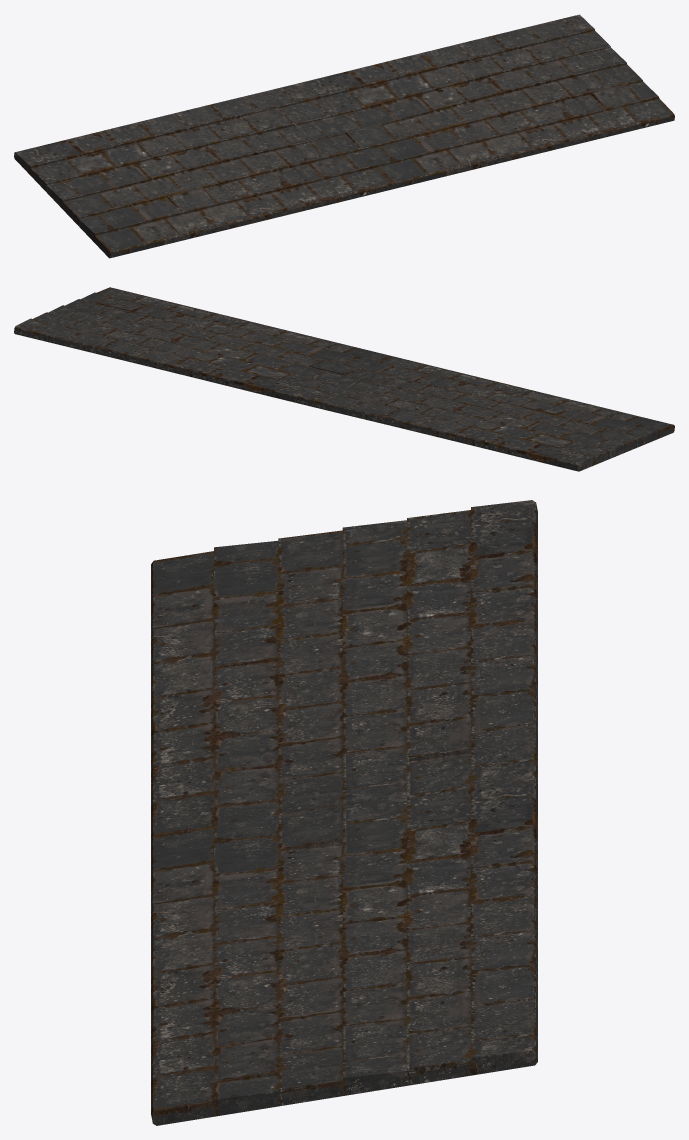
File: WallRoof_Top.fbx
3 views of the same model, one above another, from view 1: azimuth 30°, elevation 25°; view 2: azimuth 150°, elevation 25°; view 3: azimuth 270°, elevation 25° (orthographic). The views are drawn at different scales.
Visible parts, largest first — view 1: WallRoof_Top_LOD0; view 2: WallRoof_Top_LOD0; view 3: WallRoof_Top_LOD0.
Part boxes in pixels (<box>): WallRoof_Top_LOD0: <box>14,14,674,258</box>; WallRoof_Top_LOD0: <box>14,287,674,471</box>; WallRoof_Top_LOD0: <box>151,500,537,1125</box>.
Size of what is drawn, in the model's own units: 400 by 25.52 by 119.
